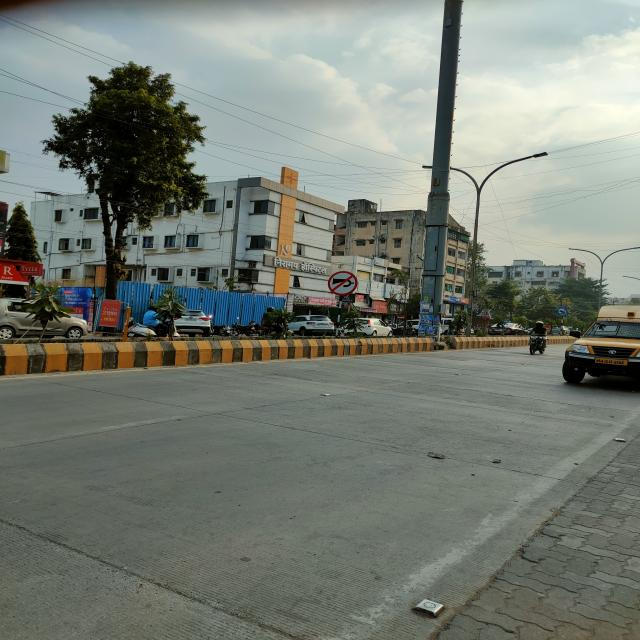HORN_PROHIBITED: (328, 271, 358, 296)
